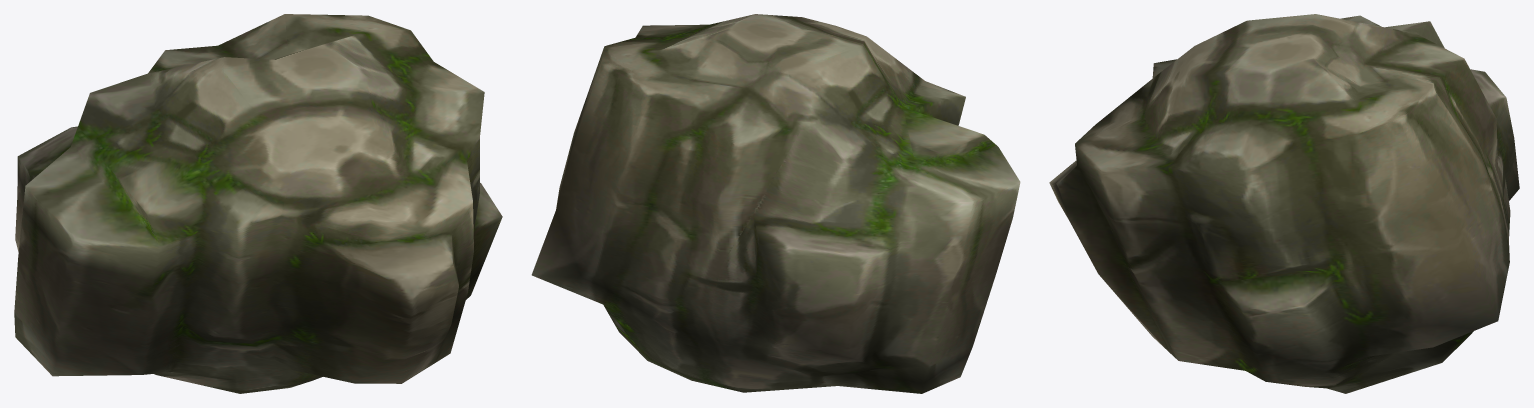
The model's file is RockFormation_4_2 (22).fbx.
3 views of the same model, side by side, from view 1: azimuth 30°, elevation 25°; view 2: azimuth 150°, elevation 25°; view 3: azimuth 270°, elevation 25° (orthographic). The views are drawn at different scales.
Visible parts, largest first — view 1: RockFormation_4_2 (22); view 2: RockFormation_4_2 (22); view 3: RockFormation_4_2 (22).
Boxes of the visible parts, x1,y1,x2,y2 form: RockFormation_4_2 (22): (14,14,502,393); RockFormation_4_2 (22): (531,14,1020,393); RockFormation_4_2 (22): (1049,14,1519,393).
Bounding box in the file's own units: 108 × 81.07 × 103.
